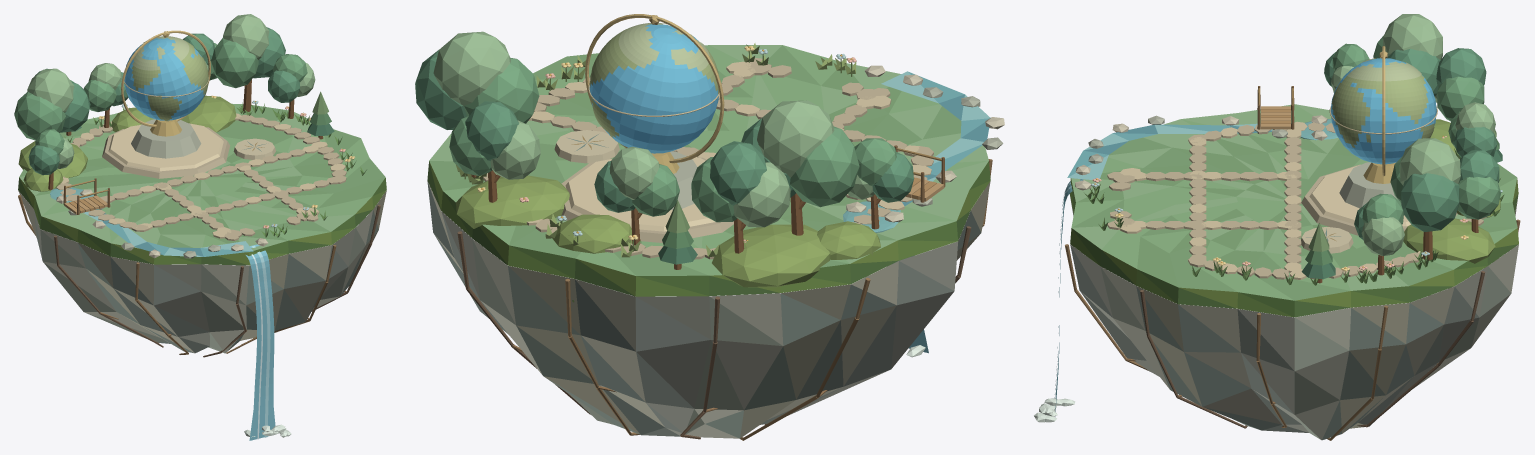
The model's file is island_gk_v2.glb.
3 renders of one model, left to right at view 1: azimuth 30°, elevation 25°; view 2: azimuth 150°, elevation 25°; view 3: azimuth 270°, elevation 25°, orthographic. The views are drawn at different scales.
Visible parts, largest first — view 1: SW15_gk_meadow, SW15_gk_cliff, SW15_gk_leaves, SW15_gk_stone, SW15_gk_water, SW15_gk_crystal, SW15_gk_roots, SW15_gk_timber, SW15_gk_brass, SW15_gk_foam; view 2: SW15_gk_cliff, SW15_gk_meadow, SW15_gk_leaves, SW15_gk_stone, SW15_gk_crystal, SW15_gk_water, SW15_gk_roots, SW15_gk_timber, SW15_gk_brass, SW15_gk_flowers; view 3: SW15_gk_meadow, SW15_gk_cliff, SW15_gk_leaves, SW15_gk_stone, SW15_gk_crystal, SW15_gk_roots, SW15_gk_water, SW15_gk_timber, SW15_gk_brass, SW15_gk_foam.
Part boxes in pixels (x1,y1,x2,y2): SW15_gk_meadow: [18, 95, 386, 265]; SW15_gk_cliff: [18, 190, 386, 353]; SW15_gk_leaves: [14, 14, 366, 237]; SW15_gk_stone: [56, 113, 346, 258]; SW15_gk_water: [50, 187, 275, 440]; SW15_gk_crystal: [124, 38, 204, 120]; SW15_gk_roots: [18, 195, 380, 357]; SW15_gk_timber: [48, 79, 323, 214]; SW15_gk_brass: [121, 30, 266, 151]; SW15_gk_foam: [244, 254, 291, 439]; SW15_gk_cliff: [427, 181, 990, 438]; SW15_gk_meadow: [427, 45, 990, 296]; SW15_gk_leaves: [415, 23, 913, 302]; SW15_gk_stone: [483, 58, 1004, 259]; SW15_gk_crystal: [589, 24, 718, 153]; SW15_gk_water: [843, 71, 990, 353]; SW15_gk_roots: [434, 159, 992, 440]; SW15_gk_timber: [471, 145, 945, 269]; SW15_gk_brass: [568, 14, 724, 173]; SW15_gk_flowers: [477, 45, 856, 242]; SW15_gk_meadow: [1070, 104, 1518, 317]; SW15_gk_cliff: [1070, 196, 1518, 440]; SW15_gk_leaves: [1084, 14, 1504, 285]; SW15_gk_stone: [1075, 115, 1486, 279]; SW15_gk_crystal: [1330, 58, 1436, 164]; SW15_gk_roots: [1065, 219, 1520, 440]; SW15_gk_water: [1054, 119, 1337, 416]; SW15_gk_timber: [1257, 86, 1478, 283]; SW15_gk_brass: [1306, 46, 1437, 241]; SW15_gk_foam: [1034, 182, 1075, 422].
Size of the model in its own units: 9.47 by 8.51 by 9.85.
